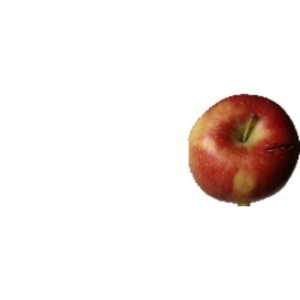maçã braeburn: (186, 93, 300, 204)
